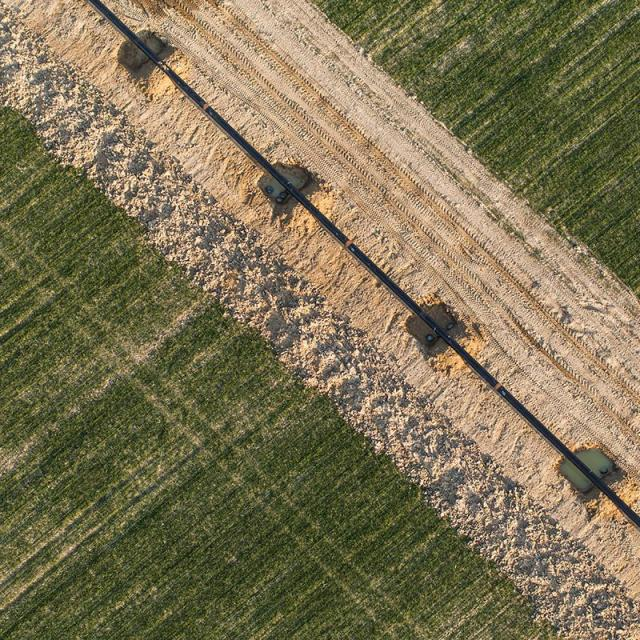gas: (76, 0, 640, 532)
